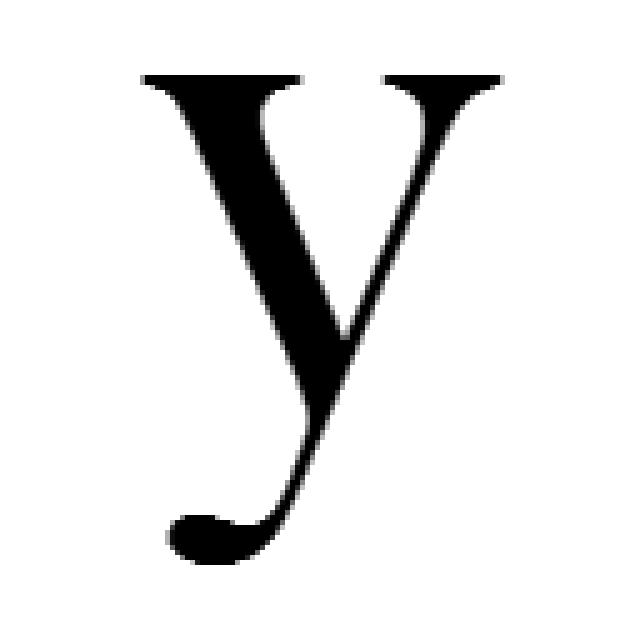Y: (130, 55, 510, 570)
